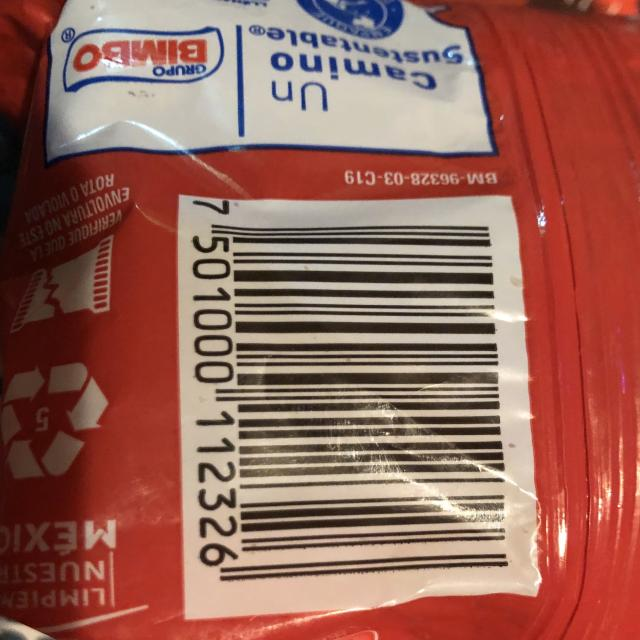Codigo_barras: (178, 191, 545, 604)
